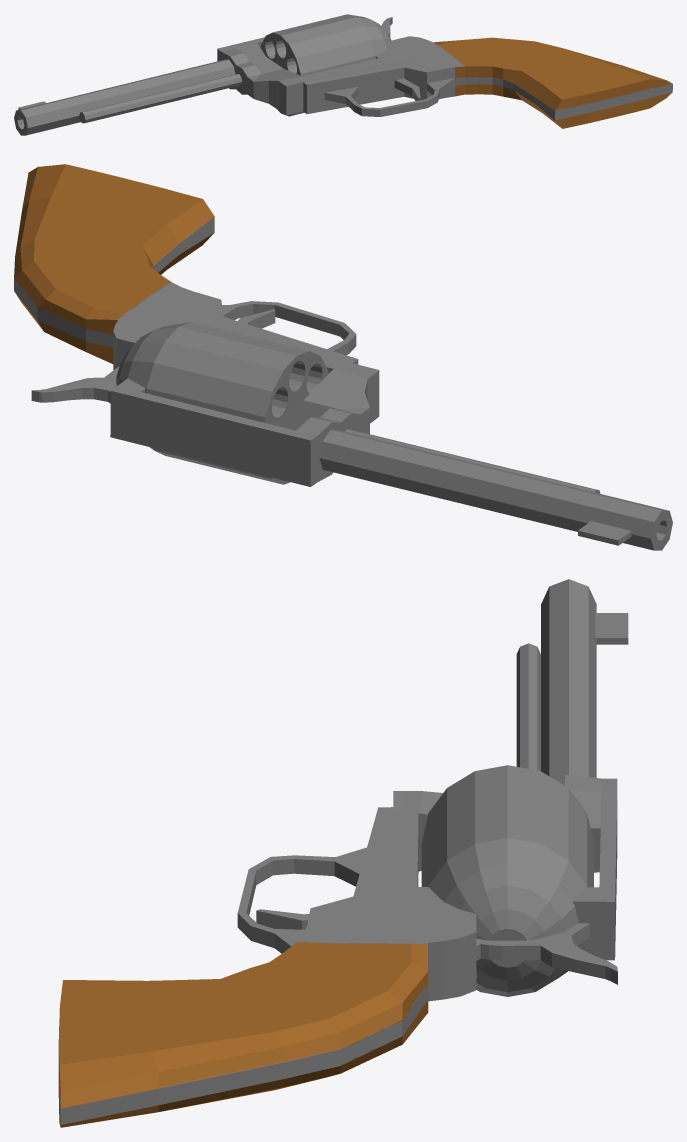
Rendered from revolver.fbx.
3 views of the same model, one above another, from view 1: azimuth 30°, elevation 25°; view 2: azimuth 150°, elevation 25°; view 3: azimuth 270°, elevation 25° (orthographic). The views are drawn at different scales.
Visible parts, largest first — view 1: Gun; view 2: Gun; view 3: Gun.
Boxes of the visible parts, x1,y1,x2,y2 form: Gun: (14,14,672,135); Gun: (14,164,672,550); Gun: (58,579,628,1127).
Bounding box in the file's own units: 3755 × 533 × 1763.
Materials: 1 (1 with a texture image).
